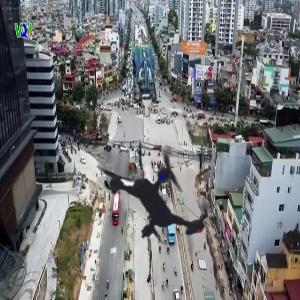drone: (68, 105, 252, 289)
